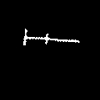double_crochet: (23, 29, 78, 44)
